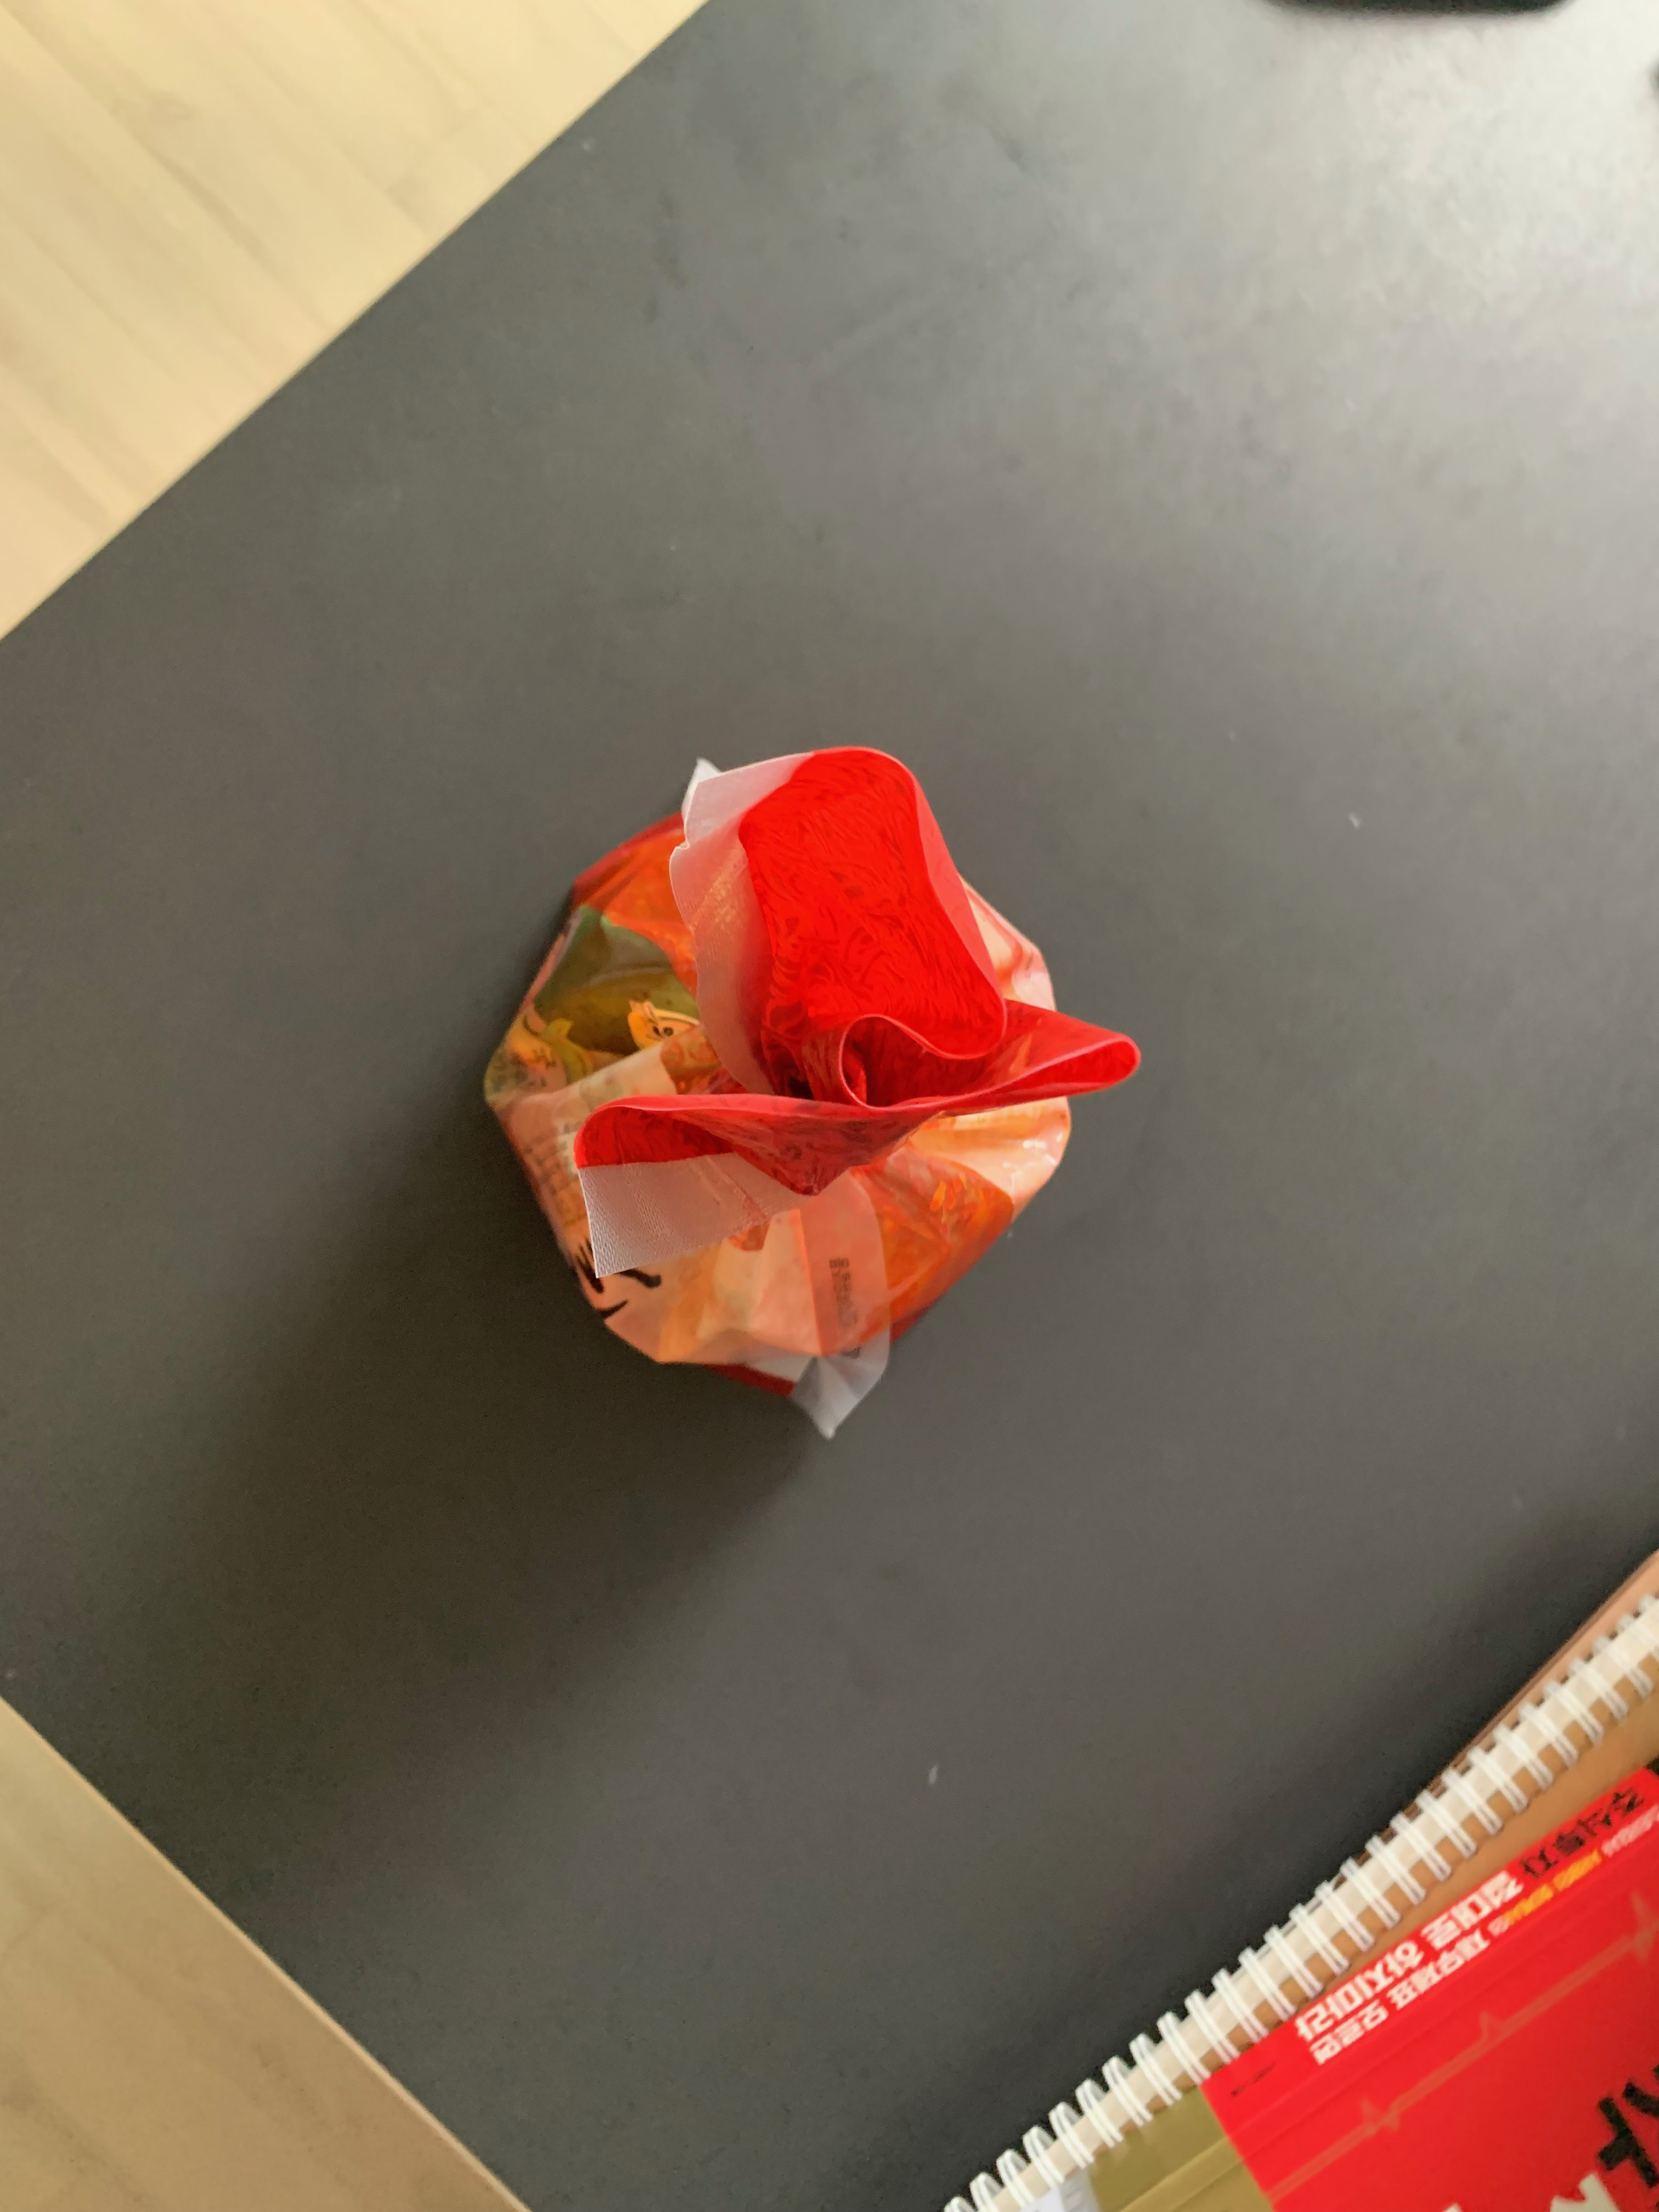kimchi: (486, 752, 1136, 1386)
